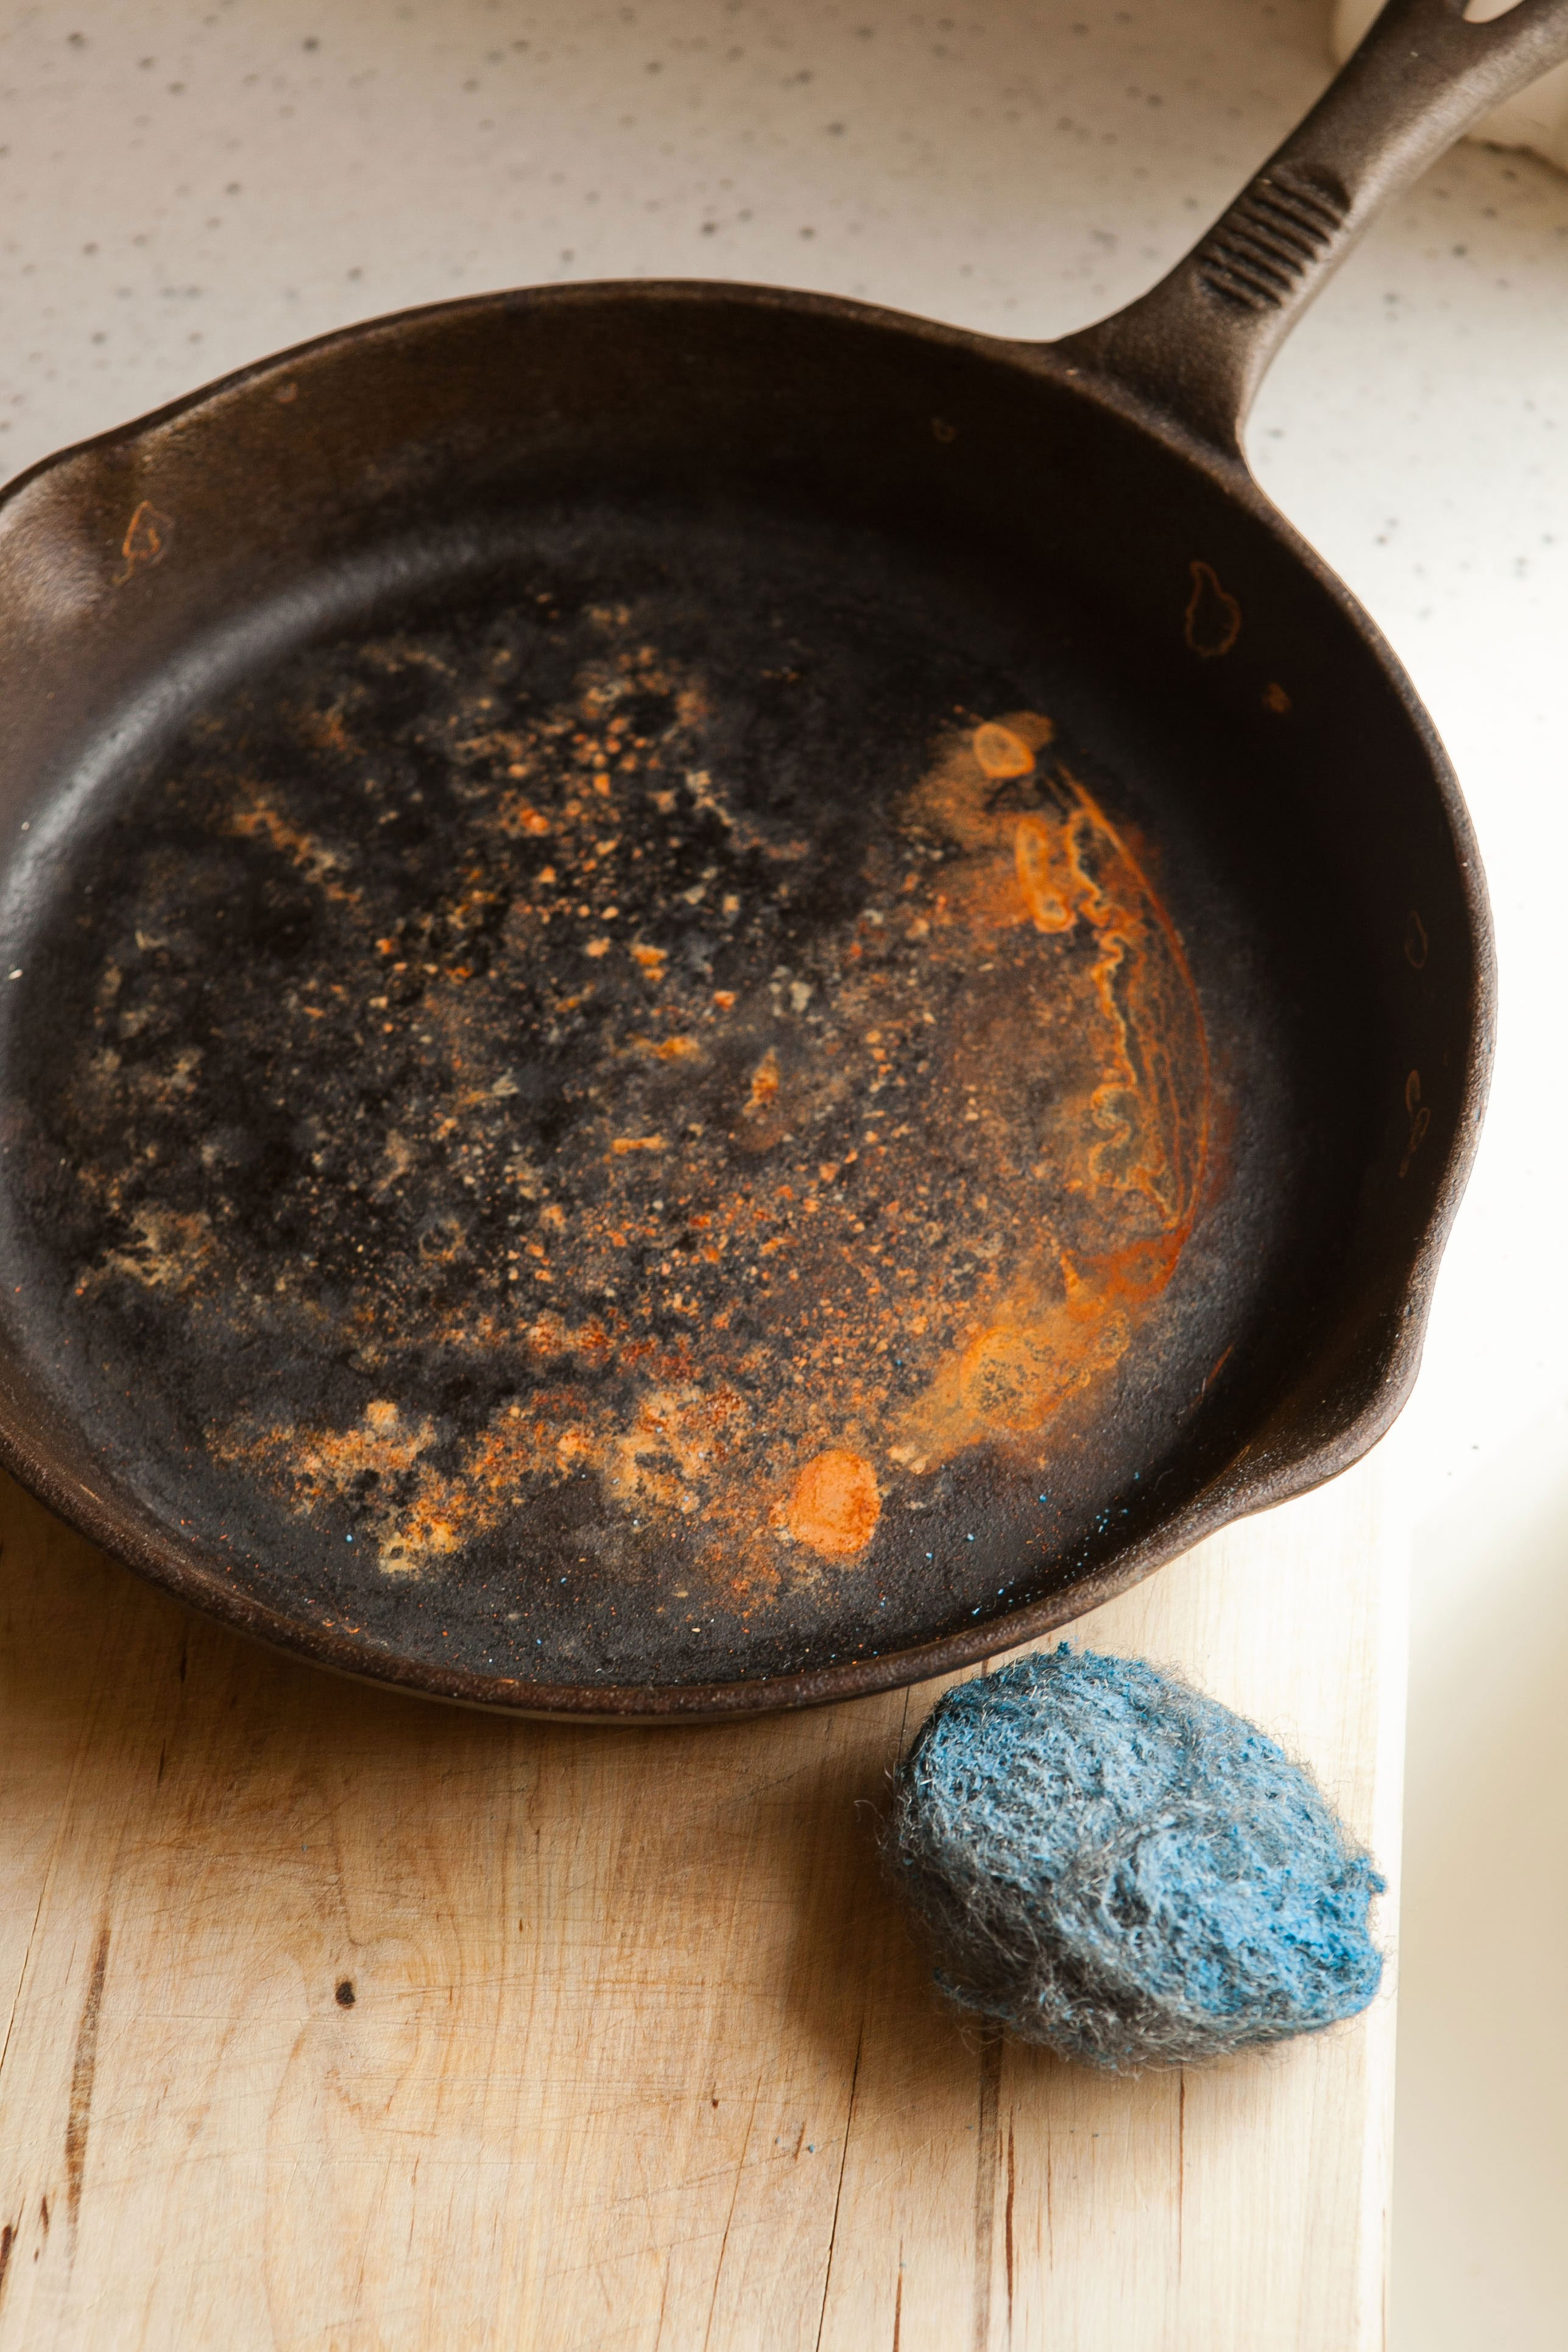rust: (943, 761, 1241, 1232), (767, 1313, 1102, 1556)
